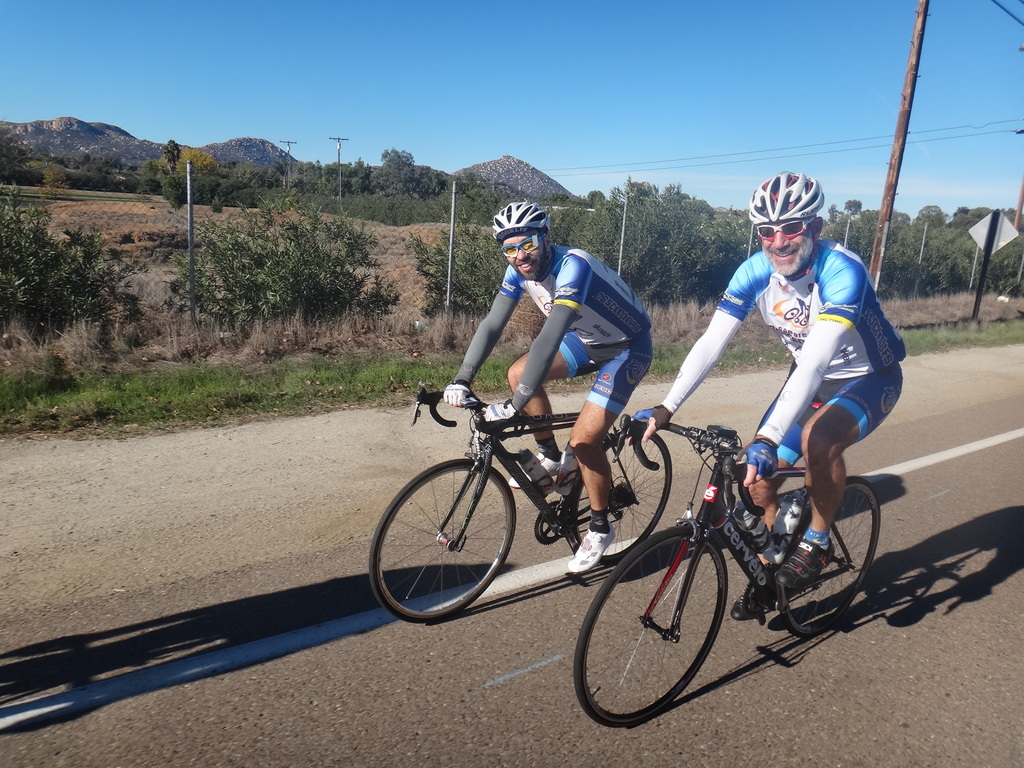Bike_toward: (575, 451, 932, 722)
